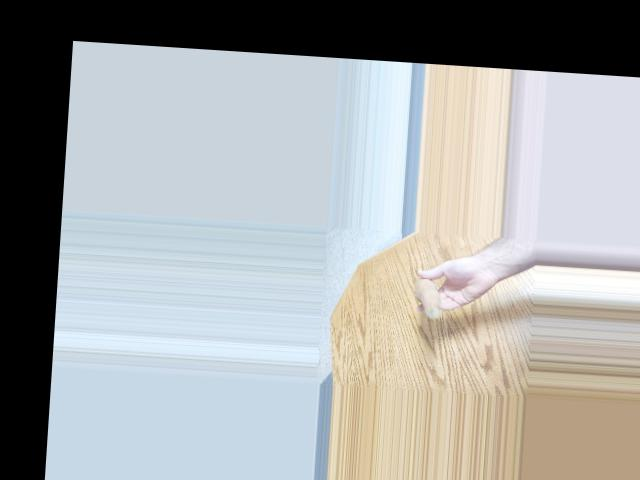sweet_potato: (417, 275, 446, 319)
